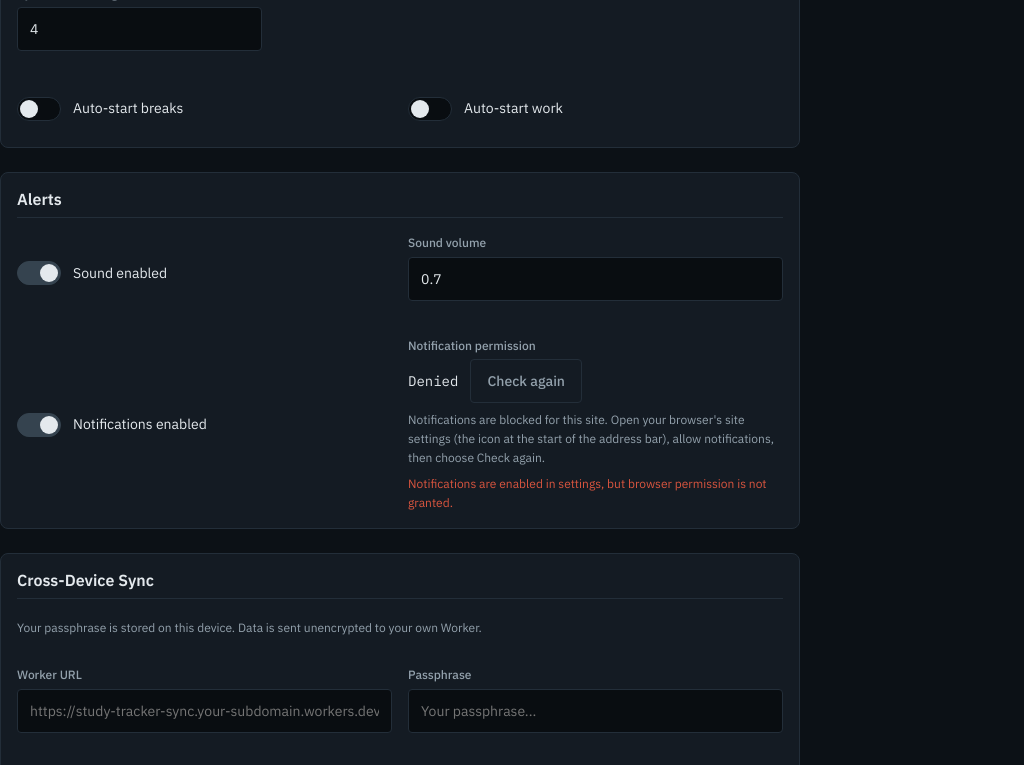
Test: Settings Feature & Verification › "Check again" picks up a permission that changed underneath the app
(page scrolled)
Step 1. Click the button "Check again" → coordinates (526, 381), box [470,359,582,403]
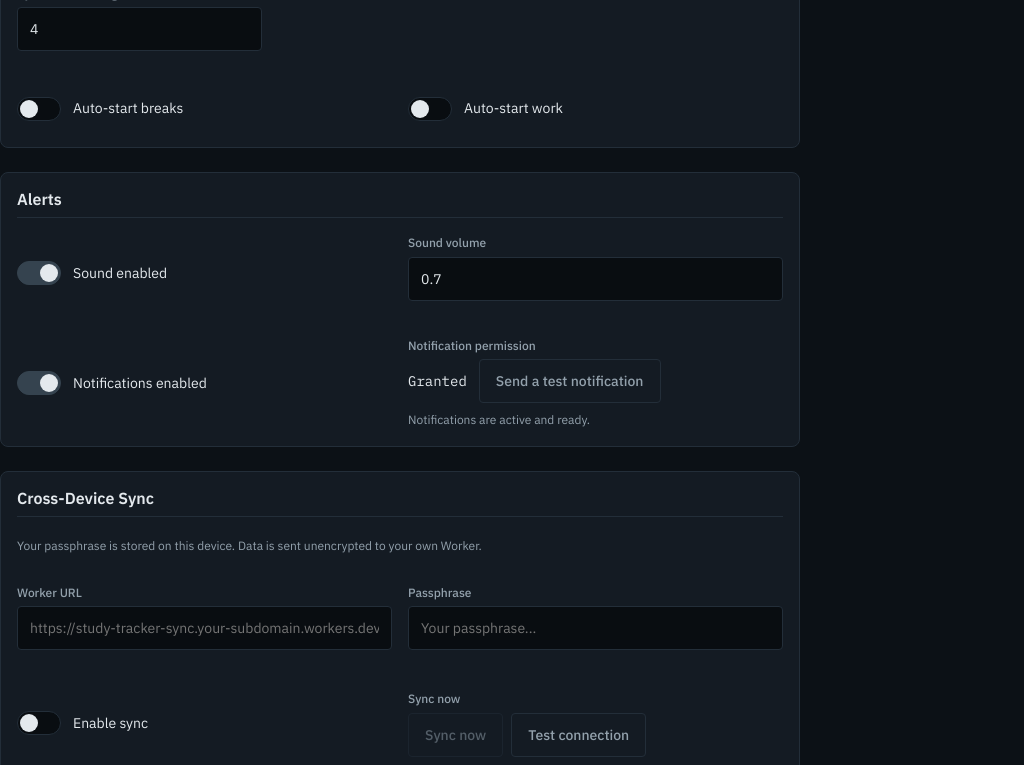
Expected: the button "Send a test notification" is shown, [479,359,660,403]
